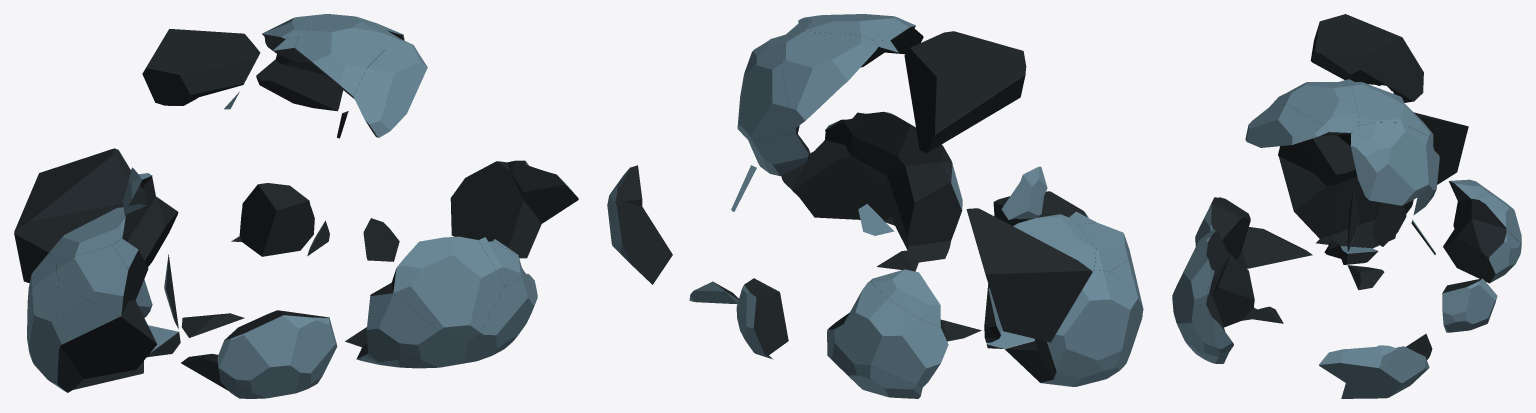
The model's file is BoulderCells.fbx.
3 views of the same model, side by side, from view 1: azimuth 30°, elevation 25°; view 2: azimuth 150°, elevation 25°; view 3: azimuth 270°, elevation 25° (orthographic). The views are drawn at different scales.
Visible parts, largest first — view 1: Boulder_cell.018, Boulder_cell.098, Boulder_cell.049, Boulder_cell.063, Boulder_cell.052, Boulder_cell.101, Boulder_cell.031, Boulder_cell.016, Boulder_cell.078, Boulder_cell.035, Boulder_cell.010, Boulder_cell.144 (+15 smaller); view 2: Boulder_cell.063, Boulder_cell.049, Boulder_cell.010, Boulder_cell.142, Boulder_cell.086, Boulder_cell.031, Boulder_cell.119, Boulder_cell.022, Boulder_cell.098, Boulder_cell.101, Boulder_cell.016, Boulder_cell.035 (+20 smaller); view 3: Boulder_cell.063, Boulder_cell.022, Boulder_cell.052, Boulder_cell.131, Boulder_cell.035, Boulder_cell.078, Boulder_cell.016, Boulder_cell.101, Boulder_cell.119, Boulder_cell.086, Boulder_cell.025, Boulder_cell.031 (+18 smaller).
Part boxes in pixels (x1,y1,x2,y2): Boulder_cell.018: (217,310,337,398); Boulder_cell.098: (391,236,504,340); Boulder_cell.049: (14,148,146,282); Boulder_cell.063: (142,29,260,105); Boulder_cell.052: (56,278,157,378); Boulder_cell.101: (450,161,541,258); Boulder_cell.031: (366,283,469,368); Boulder_cell.016: (239,183,314,256); Boulder_cell.078: (353,38,427,137); Boulder_cell.035: (294,21,400,98); Boulder_cell.010: (27,253,83,392); Boulder_cell.144: (56,245,128,316); Boulder_cell.063: (904,31,1026,152); Boulder_cell.049: (966,208,1092,342); Boulder_cell.010: (1034,270,1142,385); Boulder_cell.142: (844,280,948,387); Boulder_cell.086: (781,31,878,127); Boulder_cell.031: (885,161,962,249); Boulder_cell.119: (792,140,891,220); Boulder_cell.022: (737,34,799,139); Boulder_cell.098: (845,111,952,183); Boulder_cell.101: (608,202,672,284); Boulder_cell.016: (736,278,788,355); Boulder_cell.035: (786,15,915,67); Boulder_cell.063: (1310,14,1423,102); Boulder_cell.022: (1350,122,1434,205); Boulder_cell.052: (1278,156,1377,238); Boulder_cell.131: (1443,218,1518,283); Boulder_cell.035: (1269,82,1358,136); Boulder_cell.078: (1245,104,1328,147); Boulder_cell.016: (1442,278,1497,332); Boulder_cell.101: (1341,346,1429,398); Boulder_cell.119: (1173,294,1230,363); Boulder_cell.086: (1350,82,1433,145); Boulder_cell.025: (1302,135,1357,186); Boulder_cell.031: (1212,252,1254,327).
Bounding box in the file's own units: 1030 × 564 × 714.
